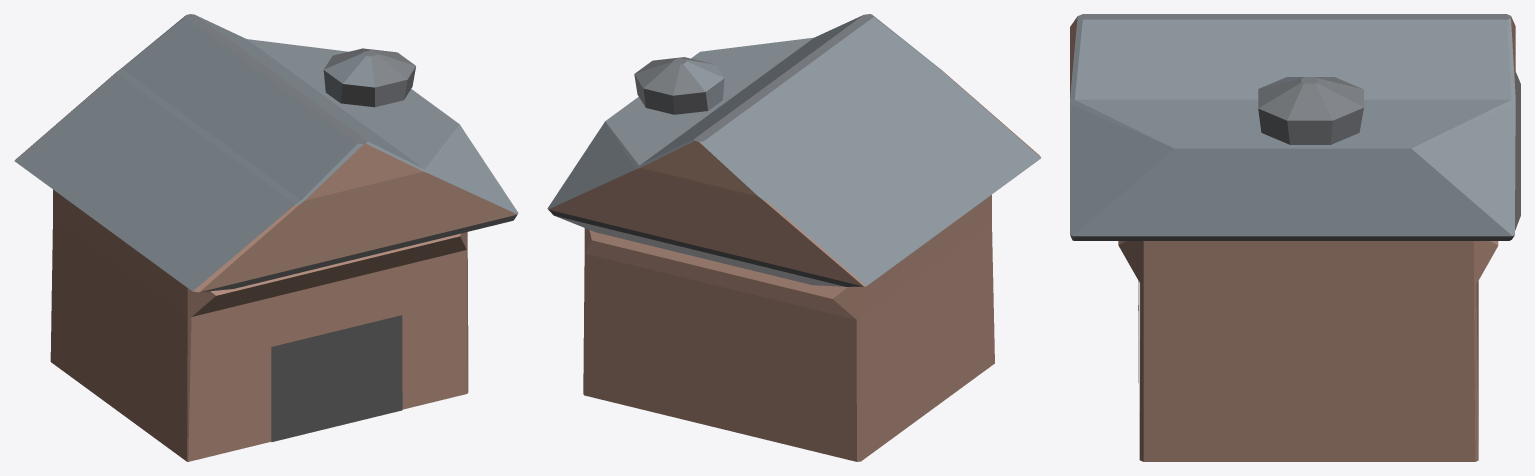
The model's file is loin.glb.
3 renders of one model, left to right at view 1: azimuth 30°, elevation 25°; view 2: azimuth 150°, elevation 25°; view 3: azimuth 270°, elevation 25°, orthographic. The views are drawn at different scales.
Parts seen in each view (by area): view 1: loin; view 2: loin; view 3: loin.
Boxes of the visible parts, left/top/right/bottom form: loin: left=14, top=14, right=518, bottom=461; loin: left=547, top=14, right=1040, bottom=461; loin: left=1070, top=14, right=1520, bottom=461.
Bounding box in the file's own units: 0.8996 × 0.7927 × 0.8826.
